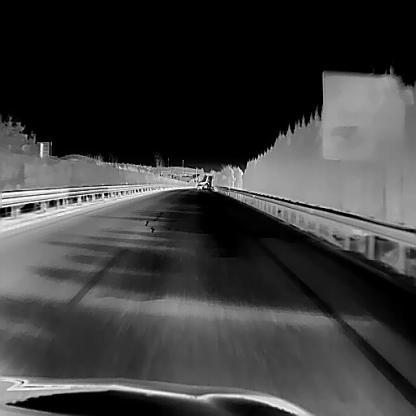car: (195, 183, 202, 189)
